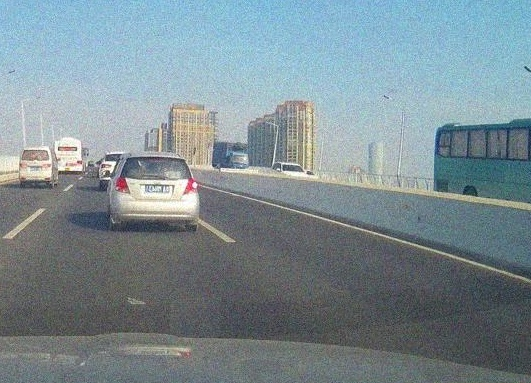L_light: (114, 176, 130, 194), (19, 163, 27, 167)
R_light: (183, 178, 197, 194), (43, 164, 51, 167)
T_light: (150, 157, 165, 162), (32, 150, 38, 152)
day-no: (113, 153, 199, 232), (19, 148, 51, 188)
